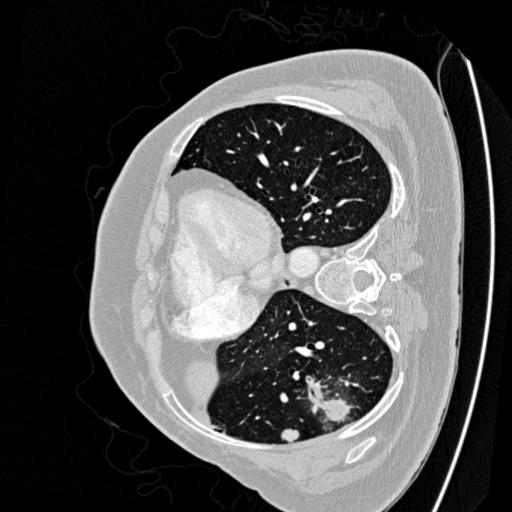nodule: (319, 394, 350, 425)
